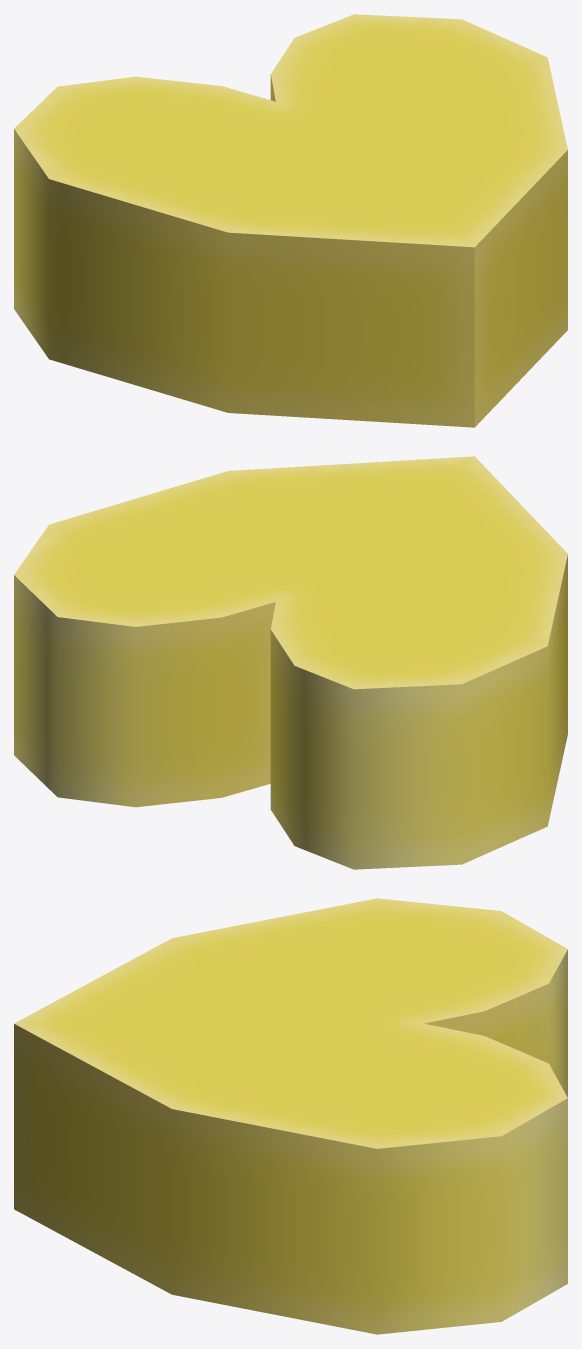
Rendered from jsf_ChocolateDecoration_05.fbx.
The picture shows the model from 3 angles, top to bottom: view 1: azimuth 30°, elevation 25°; view 2: azimuth 150°, elevation 25°; view 3: azimuth 270°, elevation 25°; orthographic projection. The views are drawn at different scales.
Parts seen in each view (by area): view 1: jsf_ChocolateDecoration_05; view 2: jsf_ChocolateDecoration_05; view 3: jsf_ChocolateDecoration_05.
Boxes of the visible parts, x1,y1,x2,y2 form: jsf_ChocolateDecoration_05: (14, 14, 567, 427); jsf_ChocolateDecoration_05: (14, 456, 567, 869); jsf_ChocolateDecoration_05: (14, 898, 567, 1334).
Size of the model in its own units: 4.34 by 1.5 by 4.06.
